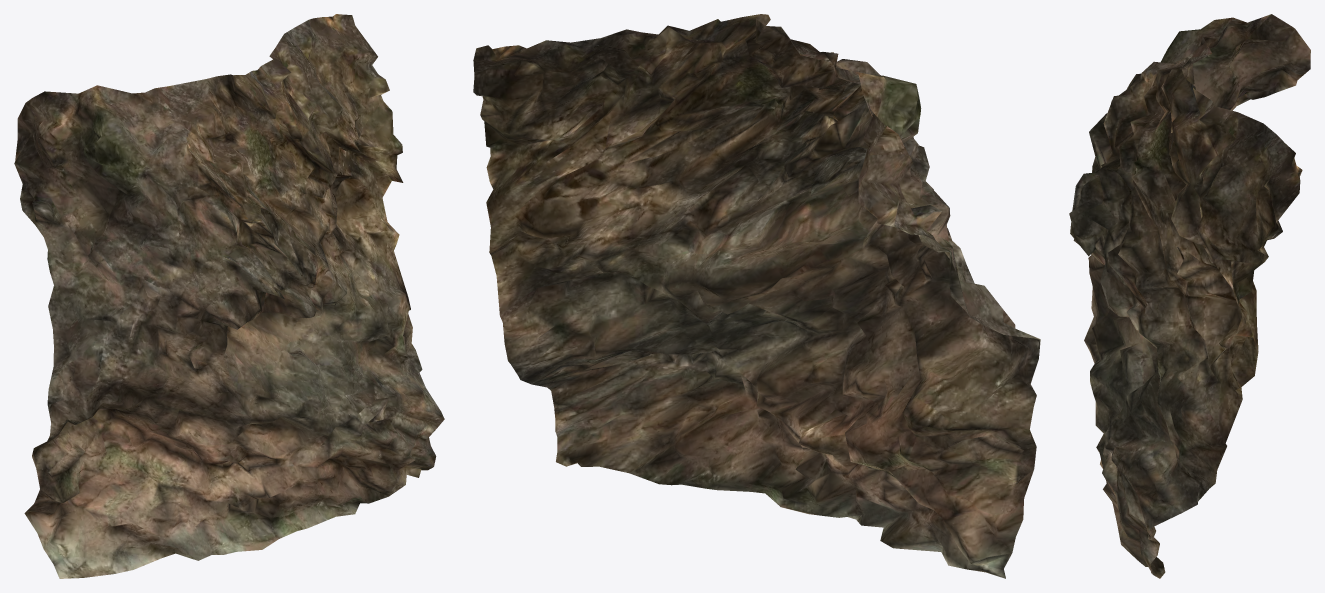
Rendered from mountainside.glb.
3 views of the same model, side by side, from view 1: azimuth 30°, elevation 25°; view 2: azimuth 150°, elevation 25°; view 3: azimuth 270°, elevation 25° (orthographic). The views are drawn at different scales.
Parts seen in each view (by area): view 1: mountainside; view 2: mountainside; view 3: mountainside.
Boxes of the visible parts, x1,y1,x2,y2 form: mountainside: (14,14,444,578); mountainside: (473,14,1040,578); mountainside: (1069,14,1310,578).
Size of the model in its own units: 10.2 by 10.52 by 5.25.
Materials: 1 (1 with a texture image).
